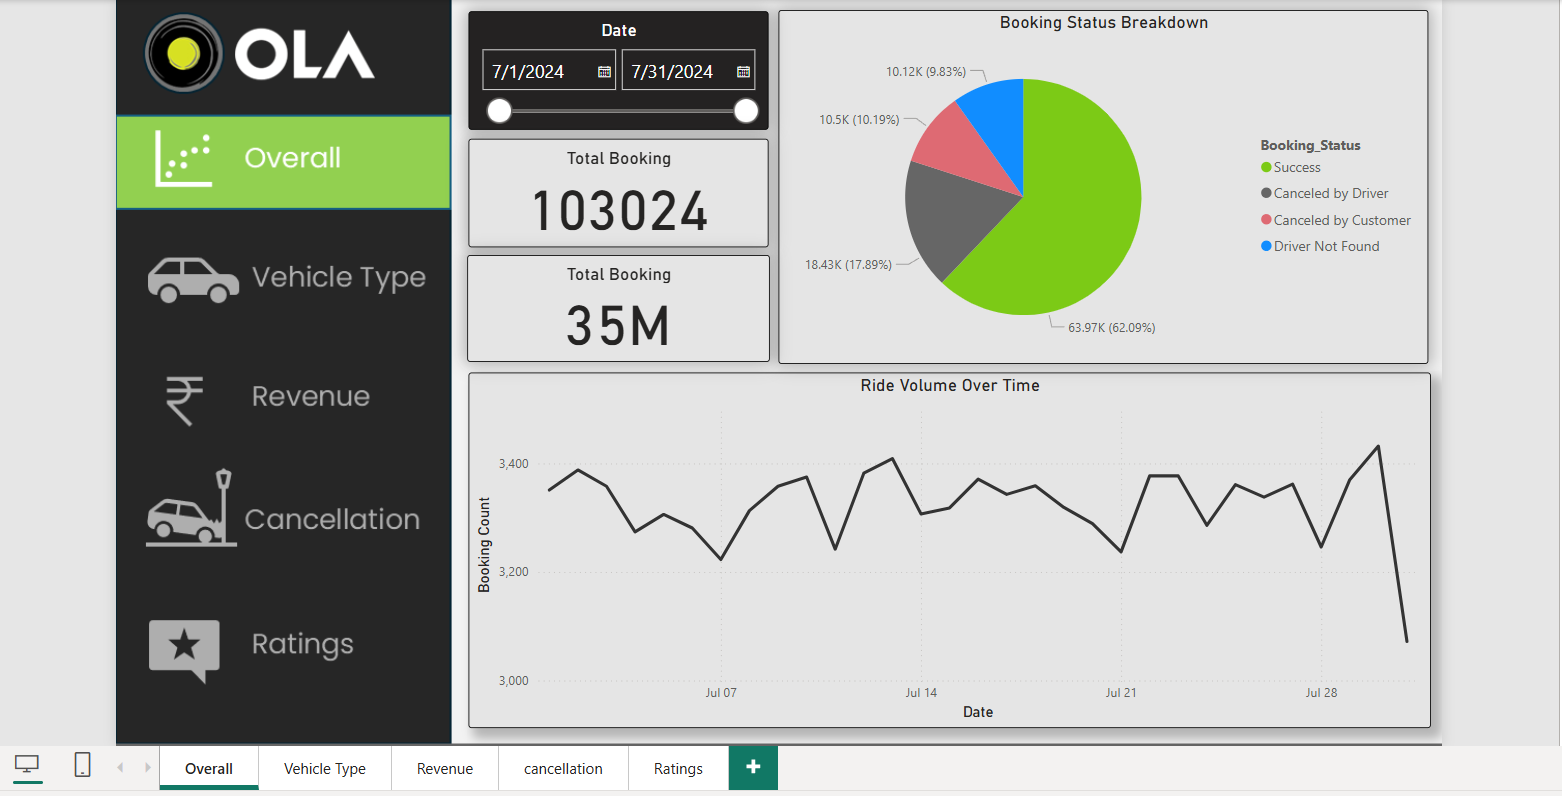

The dashboard page shown, as its layout file describes it:
{"tool":"powerbi","page":{"name":"Overall","canvas":[1280,720],"ordinal":0},"visuals":[{"type":"actionButton","box":[0,226.8,323.3,86.9],"z":0},{"type":"actionButton","box":[0,448.8,323.3,92.9],"z":1000},{"type":"actionButton","box":[0,341.4,323.3,92.9],"z":2000},{"type":"actionButton","box":[0,571.9,323.3,92.9],"z":3000},{"type":"lineChart","title":"Ride Volume Over Time","fields":{"Y":["CountNonNull(July.Booking_ID)"],"Category":["July.Date"]},"box":[340,360,928.6,342.9],"z":4000},{"type":"pieChart","title":"Booking Status Breakdown","fields":{"Category":["July.Booking_Status"],"Y":["CountNonNull(July.Booking_Status)"]},"box":[640,10,627.1,341.4],"z":5000},{"type":"slicer","title":"Date","fields":{"Values":["July.Date"]},"box":[340.5,10.7,289.3,114.3],"z":6000},{"type":"card","title":"Total Booking ","fields":{"Values":["Count(July.Booking_ID)"]},"box":[340.5,133.3,289.3,104.8],"z":7000},{"type":"card","title":"Total Booking ","fields":{"Values":["Sum(July.Booking_Value)"]},"box":[339.3,246.4,291.7,103.6],"z":8000}]}

Visuals, with their boxes on the page's 1280x720 design canvas (x1, y1, x2, y2). These are canvas units, not pixel positions in the 1562x796 screenshot, which may show the page scaled, cropped or inside an application window:
actionButton: box(0, 227, 323, 314)
actionButton: box(0, 449, 323, 542)
actionButton: box(0, 341, 323, 434)
actionButton: box(0, 572, 323, 665)
"Ride Volume Over Time" lineChart: box(340, 360, 1269, 703)
"Booking Status Breakdown" pieChart: box(640, 10, 1267, 351)
"Date" slicer: box(340, 11, 630, 125)
"Total Booking " card: box(340, 133, 630, 238)
"Total Booking " card: box(339, 246, 631, 350)
